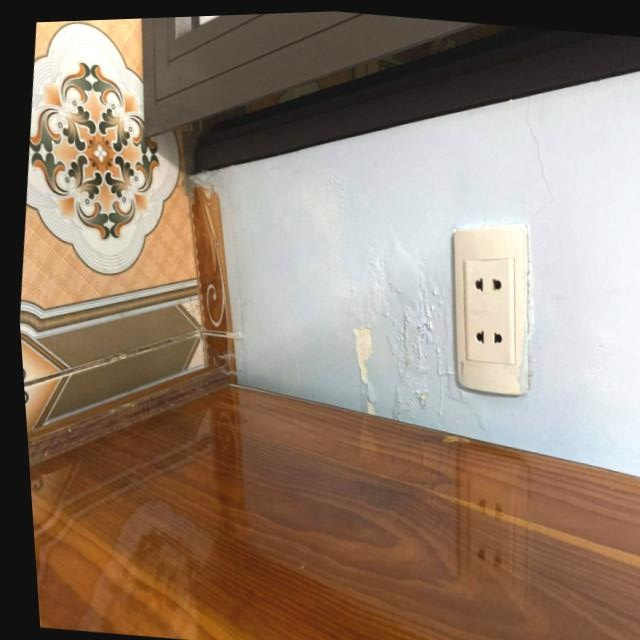outlet: (433, 214, 552, 401)
